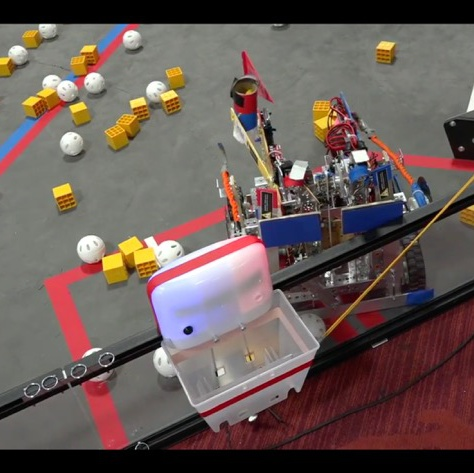robot: (210, 48, 441, 314)
